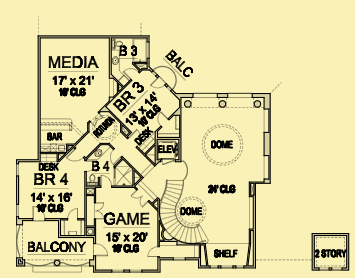bathroom has a shower space with small and large sink: (84, 142, 137, 189)
small bathroom has small and large sink: (106, 33, 151, 84)
there are stairs in the open area: (159, 173, 225, 245)
